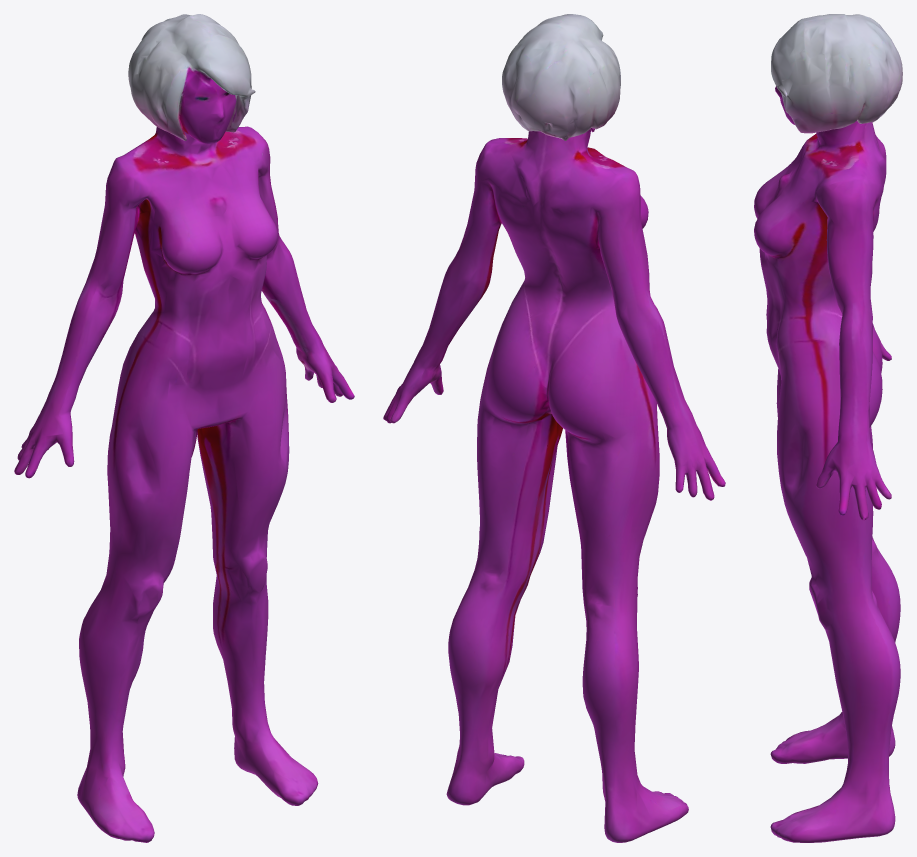
The model's file is val17-lite.glb.
The picture shows the model from 3 angles, left to right: view 1: azimuth 30°, elevation 25°; view 2: azimuth 150°, elevation 25°; view 3: azimuth 270°, elevation 25°; orthographic projection.
Parts seen in each view (by area): view 1: Mesh; view 2: Mesh; view 3: Mesh.
Boxes of the visible parts, bbox=[...] form: Mesh: bbox=[14, 14, 354, 842]; Mesh: bbox=[383, 14, 725, 842]; Mesh: bbox=[754, 14, 902, 842].
Bounding box in the file's own units: 0.8334 × 1.9 × 0.3269.
Materials: 1 (1 with a texture image).
